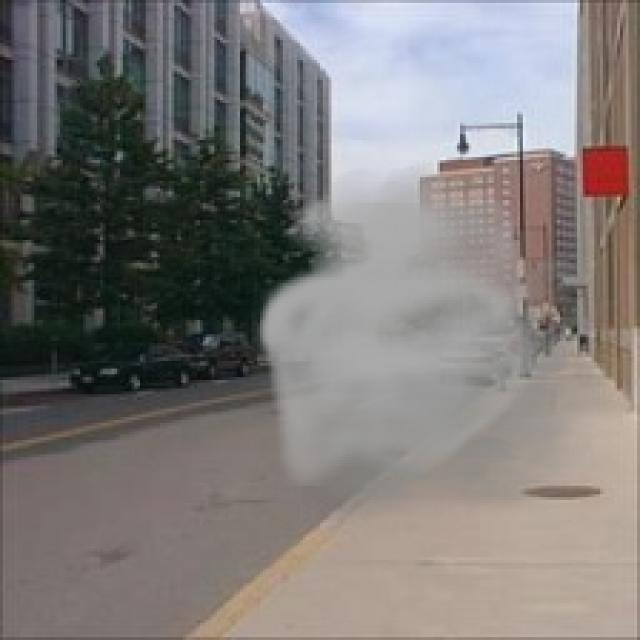smoke: (252, 163, 637, 534)
